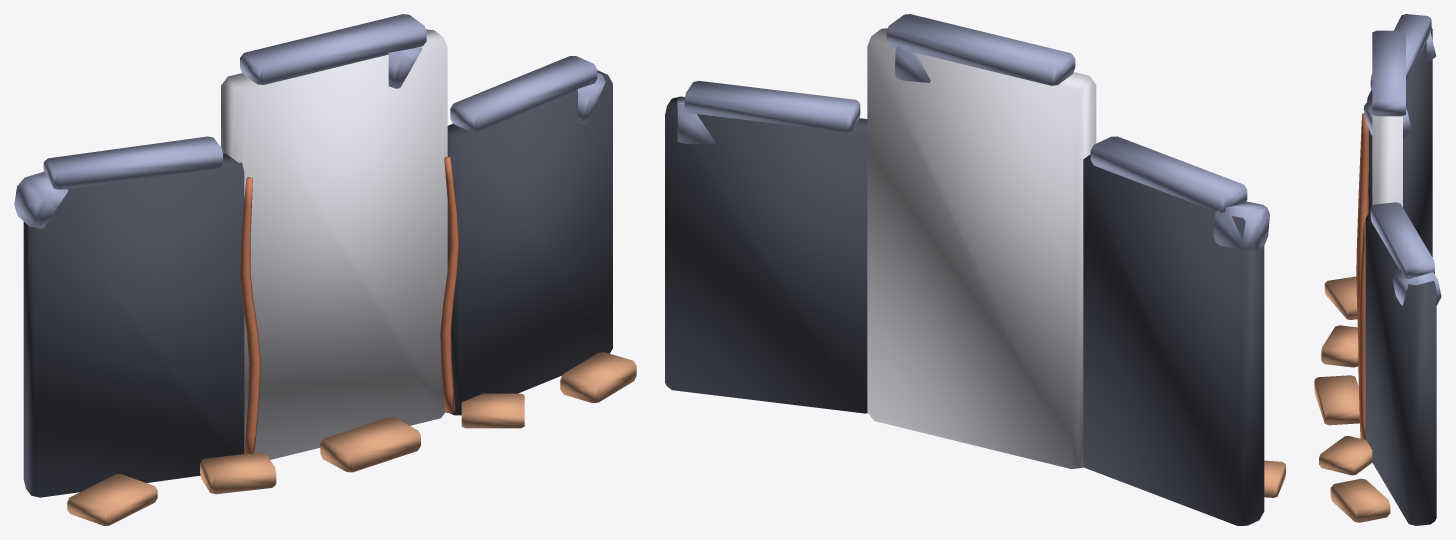
Rendered from barrier.glb.
The picture shows the model from 3 angles, left to right: view 1: azimuth 30°, elevation 25°; view 2: azimuth 150°, elevation 25°; view 3: azimuth 270°, elevation 25°; orthographic projection. The views are drawn at different scales.
Parts seen in each view (by area): view 1: slab-1, slab-0, slab-2, skirt, seams; view 2: slab-1, slab-2, slab-0, skirt; view 3: slab-2, skirt, slab-0, slab-1, seams.
Boxes of the visible parts, left/top/right/bottom form: slab-1: left=221, top=14, right=447, bottom=459; slab-0: left=14, top=136, right=244, bottom=497; slab-2: left=447, top=56, right=612, bottom=415; skirt: left=67, top=352, right=636, bottom=525; seams: left=240, top=157, right=459, bottom=454; slab-1: left=867, top=14, right=1096, bottom=468; slab-2: left=665, top=81, right=867, bottom=413; slab-0: left=1083, top=136, right=1269, bottom=525; skirt: left=1264, top=460, right=1285, bottom=497; slab-2: left=1365, top=202, right=1441, bottom=525; skirt: left=1314, top=276, right=1390, bottom=522; slab-0: left=1367, top=14, right=1436, bottom=257; slab-1: left=1363, top=30, right=1411, bottom=206; seams: left=1356, top=113, right=1368, bottom=439.
Bounding box in the file's own units: 3.42 × 2.2 × 0.7487.
